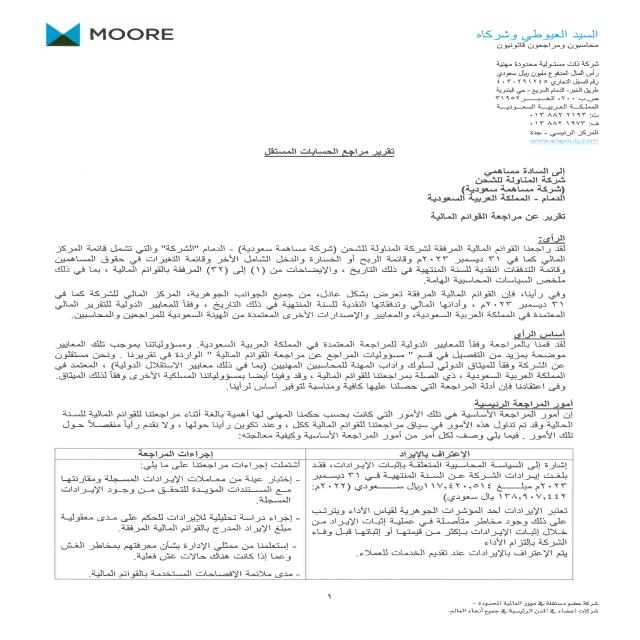auditor_report: (233, 134, 415, 178)
